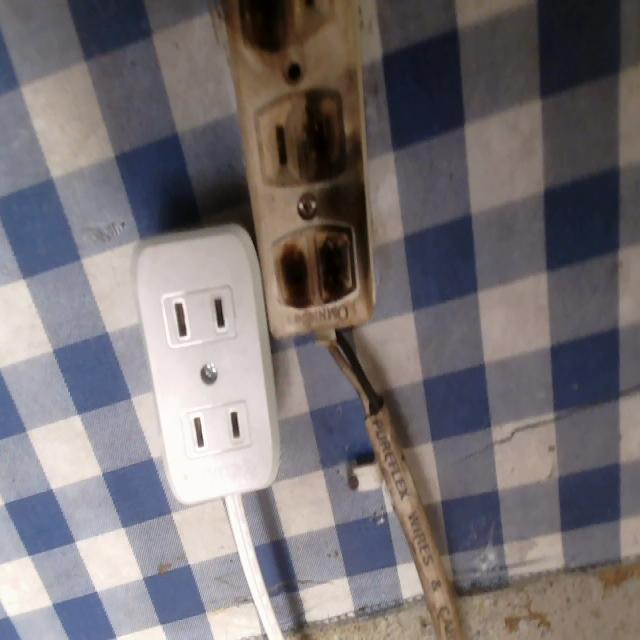-: (274, 222, 360, 318), (295, 93, 359, 176), (231, 4, 295, 67)
